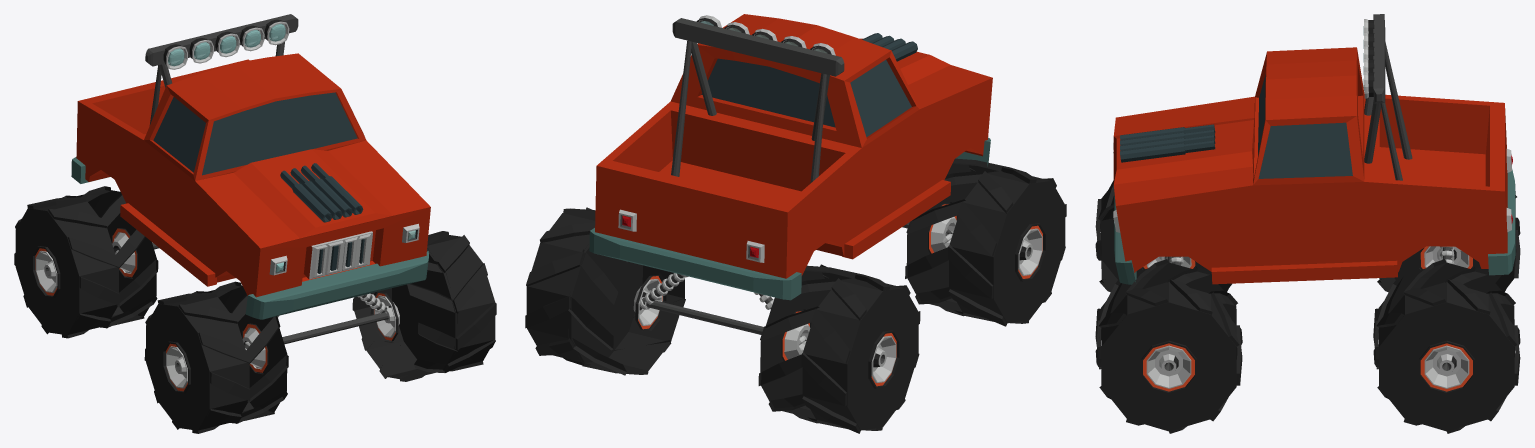
The model's file is truck.glb.
3 renders of one model, left to right at view 1: azimuth 30°, elevation 25°; view 2: azimuth 150°, elevation 25°; view 3: azimuth 270°, elevation 25°, orthographic. The views are drawn at different scales.
Visible parts, largest first — view 1: truck_body, truck_back_wheels, truck_front_right_wheel, truck_front_left_wheel; view 2: truck_body, truck_back_wheels, truck_front_right_wheel; view 3: truck_body, truck_back_wheels, truck_front_left_wheel, truck_front_right_wheel.
Boxes of the visible parts, bbox=[...] form: truck_body: bbox=[71, 14, 430, 349]; truck_back_wheels: bbox=[14, 186, 158, 338]; truck_front_right_wheel: bbox=[144, 281, 288, 433]; truck_front_left_wheel: bbox=[352, 231, 496, 381]; truck_body: bbox=[589, 14, 992, 345]; truck_back_wheels: bbox=[525, 207, 920, 433]; truck_front_right_wheel: bbox=[905, 158, 1066, 326]; truck_body: bbox=[1113, 14, 1515, 284]; truck_back_wheels: bbox=[1373, 195, 1520, 433]; truck_front_left_wheel: bbox=[1095, 259, 1242, 433]; truck_front_right_wheel: bbox=[1095, 180, 1231, 292].
Size of the model in its own units: 2.91 by 2.82 by 3.47.
